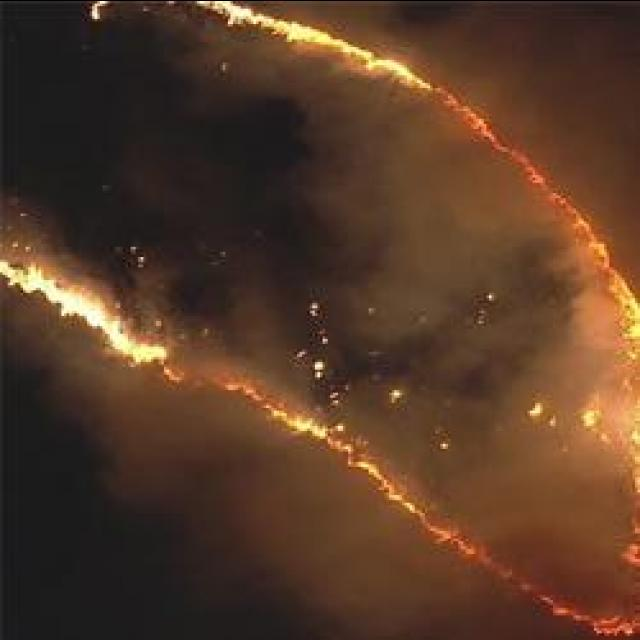fire: (114, 337, 170, 365), (282, 18, 320, 46), (222, 1, 260, 27), (73, 302, 111, 326), (46, 287, 82, 311), (18, 267, 52, 289), (284, 416, 320, 435), (626, 300, 640, 338), (373, 58, 406, 74), (321, 30, 346, 50), (0, 260, 20, 282), (257, 12, 281, 29)
smoke: (260, 520, 410, 640), (302, 152, 470, 238), (474, 436, 574, 543), (102, 431, 218, 514), (174, 36, 284, 120), (350, 260, 452, 348), (290, 100, 394, 186), (32, 351, 122, 434), (460, 200, 538, 274), (215, 274, 281, 350), (478, 318, 558, 374), (423, 334, 488, 385), (562, 292, 604, 348)
